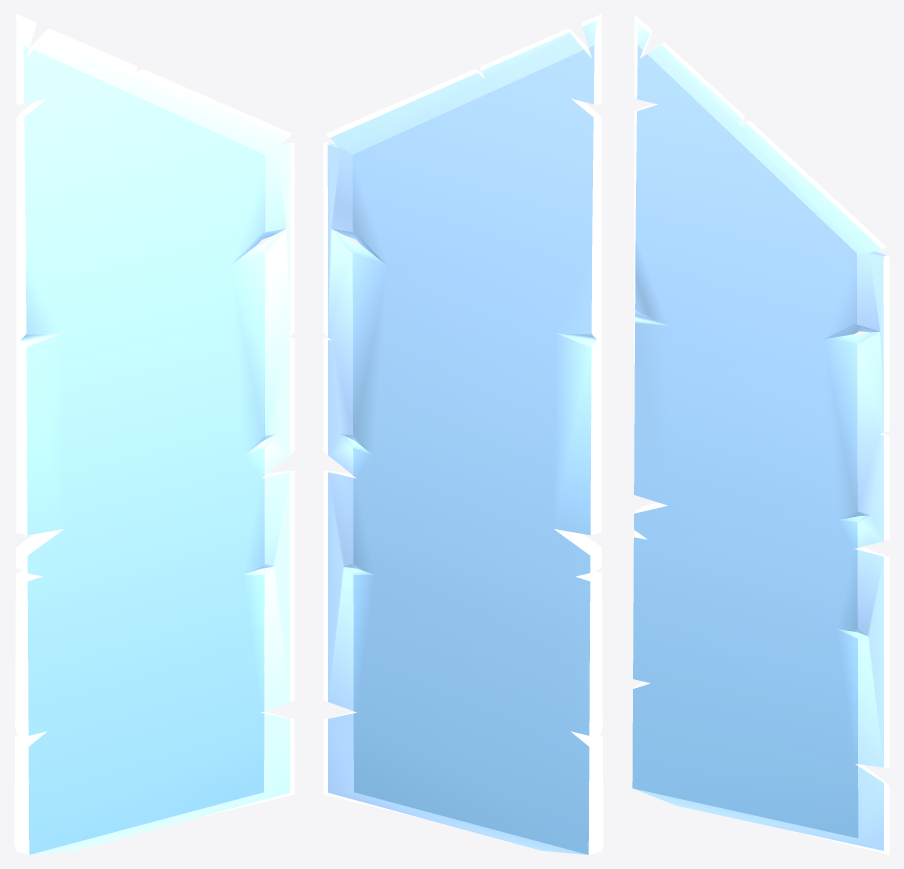
The model's file is steel_blade_scratched_056.glb.
3 views of the same model, side by side, from view 1: azimuth 30°, elevation 25°; view 2: azimuth 150°, elevation 25°; view 3: azimuth 330°, elevation 25° (orthographic). The views are drawn at different scales.
Parts seen in each view (by area): view 1: steel_blade_scratched.056; view 2: steel_blade_scratched.056; view 3: steel_blade_scratched.056.
Boxes of the visible parts, bbox=[...] form: steel_blade_scratched.056: bbox=[14, 14, 294, 854]; steel_blade_scratched.056: bbox=[323, 14, 603, 854]; steel_blade_scratched.056: bbox=[632, 14, 889, 854].
Bounding box in the file's own units: 4.06 × 11.85 × 0.374.
Materials: 1 (1 with a texture image).
